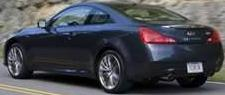back_view: (136, 22, 225, 83)
backlight: (136, 24, 179, 46)
side_glass: (49, 6, 116, 28)
